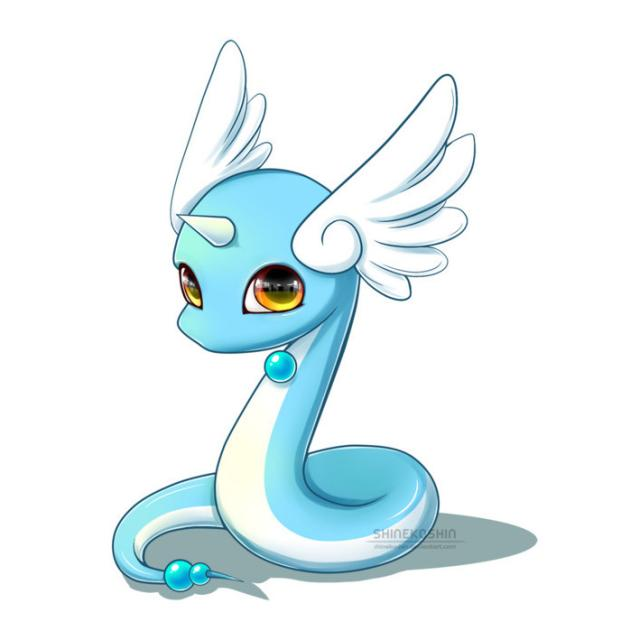Dragonair: (163, 54, 449, 567)
